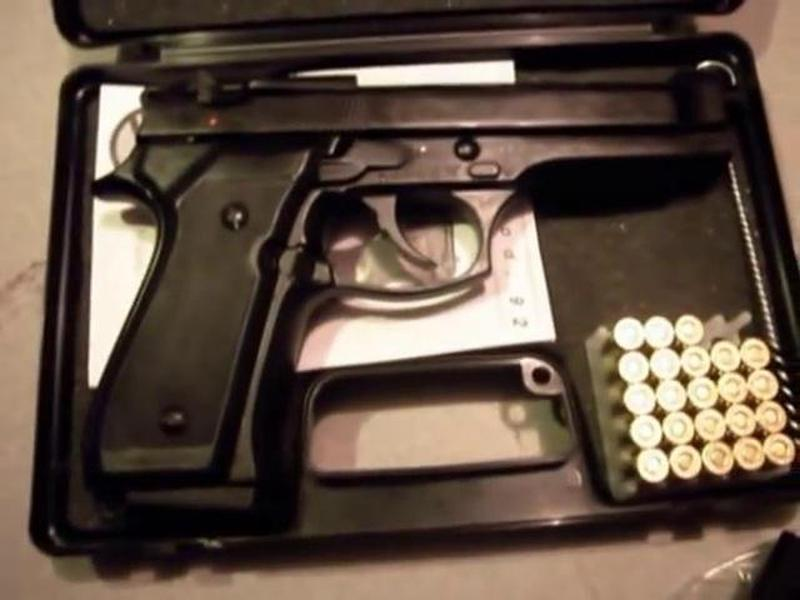Pistola: (68, 68, 711, 498)
